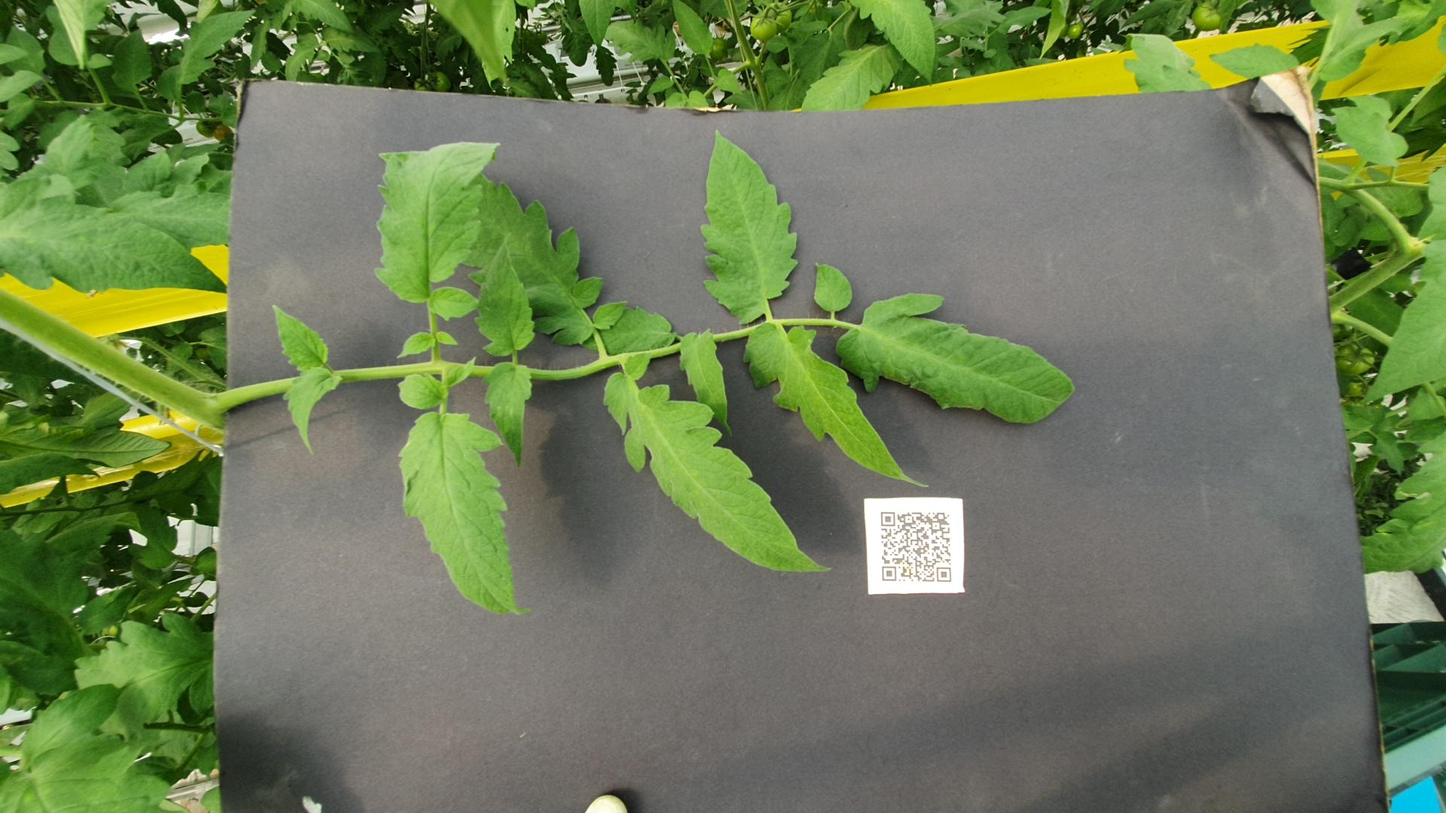Healthy: (428, 338, 822, 468), (691, 469, 927, 605), (577, 417, 873, 523), (830, 260, 1161, 353), (352, 223, 715, 299), (922, 0, 1135, 128), (874, 212, 1196, 281), (866, 393, 1223, 450), (134, 40, 357, 121), (722, 761, 1021, 813), (1266, 87, 1430, 144), (810, 265, 1035, 301), (1001, 62, 1117, 131), (1293, 477, 1446, 526), (1246, 449, 1370, 506), (669, 380, 863, 413), (633, 158, 793, 193), (613, 272, 802, 300), (1149, 747, 1258, 792), (813, 328, 903, 381), (789, 152, 907, 185), (1307, 679, 1370, 731), (1334, 339, 1413, 380), (1284, 62, 1396, 86), (1349, 378, 1446, 402), (1387, 163, 1446, 200), (891, 456, 980, 480), (718, 222, 786, 252), (1296, 159, 1389, 179), (1386, 560, 1439, 591), (1350, 182, 1400, 214), (1275, 401, 1323, 421)
